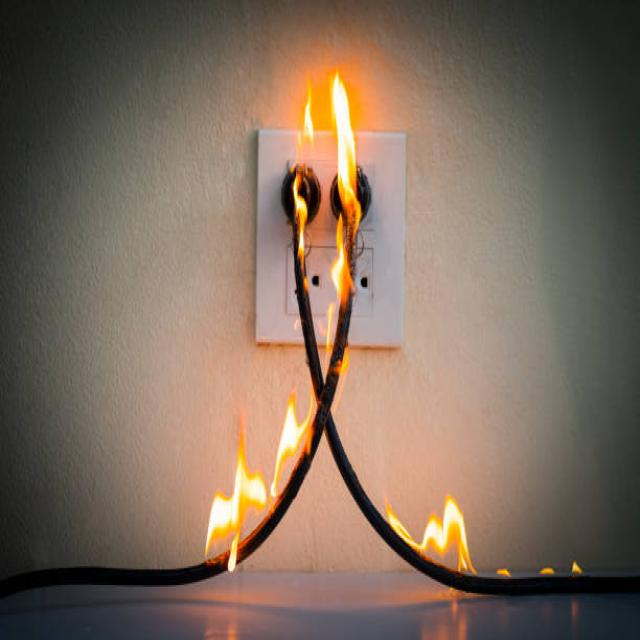fire: (280, 67, 398, 362), (378, 468, 592, 588), (204, 394, 327, 576)
